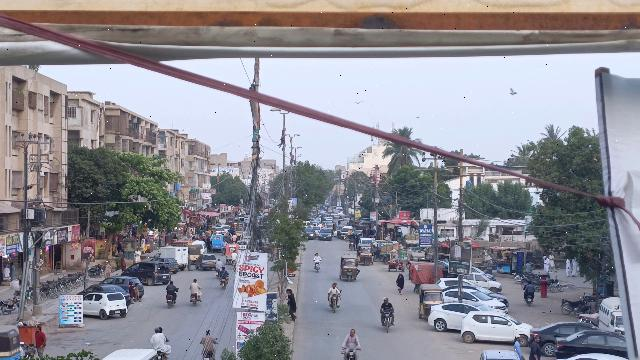Bike: (381, 308, 395, 334), (328, 293, 341, 315), (342, 346, 360, 360), (165, 294, 177, 310), (201, 350, 220, 360), (190, 292, 199, 309), (314, 260, 322, 274)
Car: (460, 308, 530, 346), (529, 320, 596, 350), (555, 330, 628, 357), (426, 301, 487, 331), (83, 291, 129, 321), (121, 261, 172, 284), (107, 275, 146, 301)
Person: (341, 323, 361, 350), (284, 287, 298, 323), (149, 325, 166, 353), (511, 331, 527, 360), (34, 326, 48, 357), (529, 334, 544, 360), (395, 271, 407, 296), (380, 295, 395, 312), (127, 280, 137, 303), (327, 282, 341, 298), (189, 278, 202, 294), (166, 280, 179, 296), (102, 259, 112, 278), (134, 282, 141, 302), (313, 251, 323, 263)
Rickshaw: (416, 282, 445, 320), (338, 253, 361, 283)
Suzuki: (597, 296, 623, 333)
Truck: (156, 244, 188, 268)
